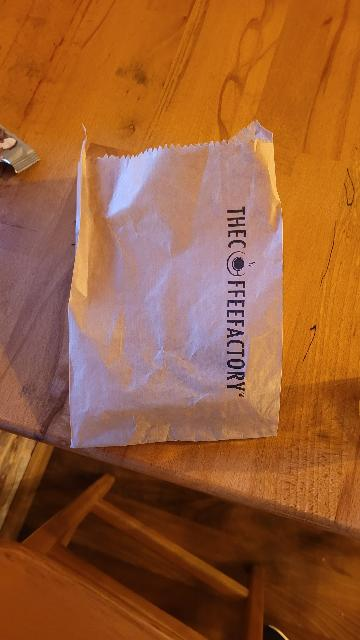Kagit: (71, 126, 287, 445)
